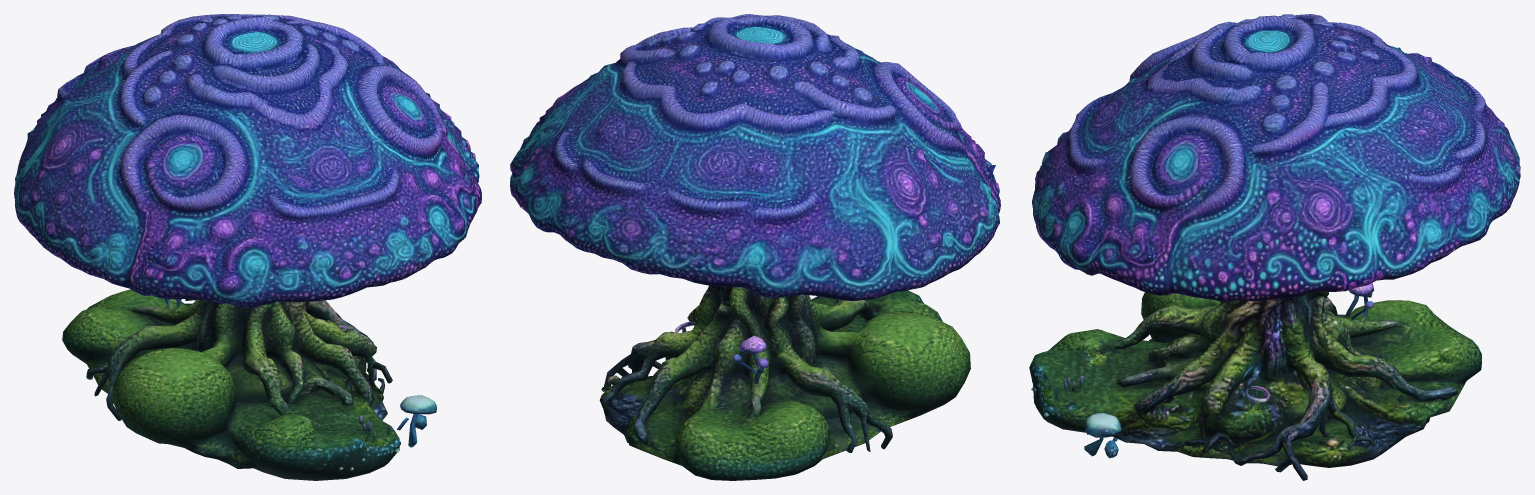
The model's file is mushroom_small.glb.
The picture shows the model from 3 angles, left to right: view 1: azimuth 30°, elevation 25°; view 2: azimuth 150°, elevation 25°; view 3: azimuth 270°, elevation 25°; orthographic projection. The views are drawn at different scales.
Parts seen in each view (by area): view 1: tripo_node_a6410784-4074-4326-9990-b6c70c849b9f; view 2: tripo_node_a6410784-4074-4326-9990-b6c70c849b9f; view 3: tripo_node_a6410784-4074-4326-9990-b6c70c849b9f.
Part boxes in pixels (x1,y1,x2,y2): tripo_node_a6410784-4074-4326-9990-b6c70c849b9f: (14,14,481,480); tripo_node_a6410784-4074-4326-9990-b6c70c849b9f: (510,14,1000,480); tripo_node_a6410784-4074-4326-9990-b6c70c849b9f: (1029,14,1520,480).
Bounding box in the file's own units: 0.9941 × 0.8669 × 0.998.
Materials: 1 (1 with a texture image).
